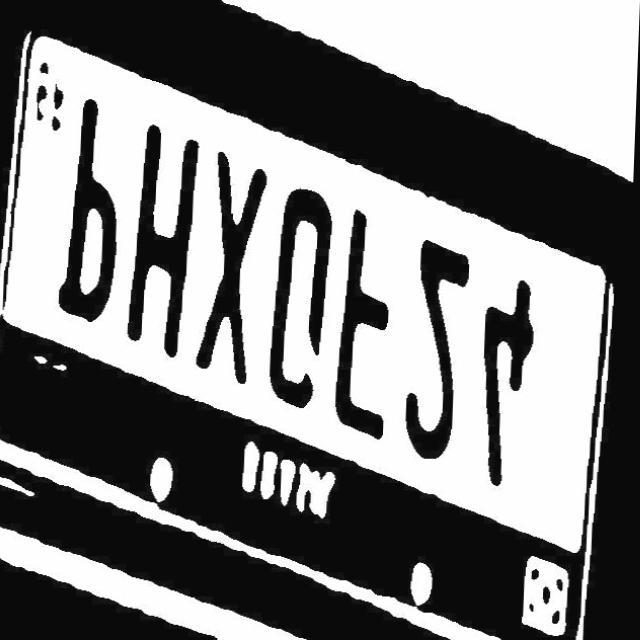0: (269, 190, 335, 413)
2: (403, 236, 474, 462)
4: (478, 279, 542, 487)
f: (333, 205, 395, 442)
h: (130, 123, 199, 359)
p: (56, 100, 125, 322)
x: (197, 148, 270, 388)
